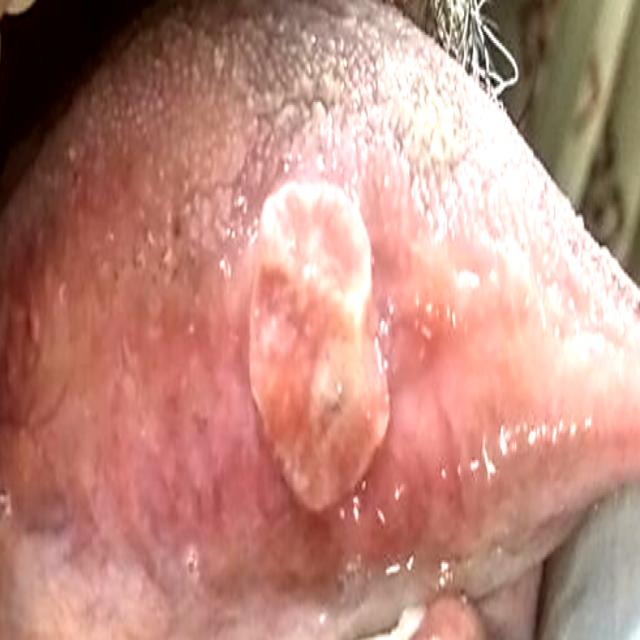cancer-detection: (227, 131, 461, 591)
processing_area: (3, 2, 623, 635)
